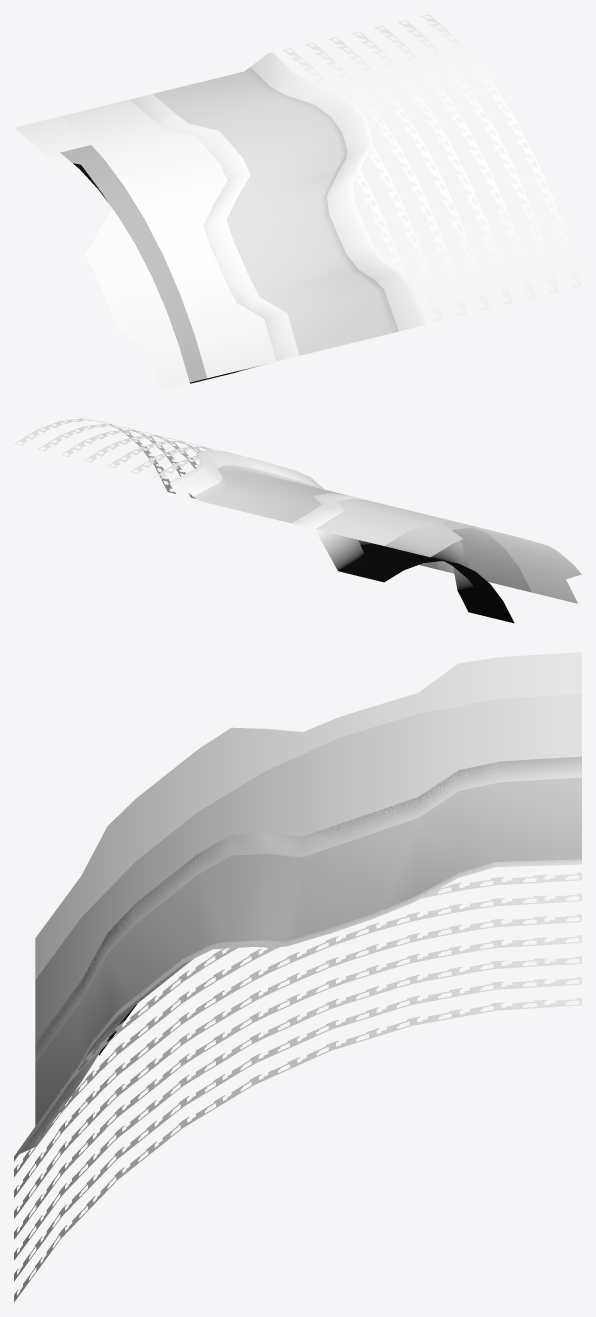
Rendered from grd_Iw_2.dae.
3 renders of one model, top to bottom at view 1: azimuth 30°, elevation 25°; view 2: azimuth 150°, elevation 25°; view 3: azimuth 270°, elevation 25°, orthographic. The views are drawn at different scales.
Visible parts, largest first — view 1: beach_0_0, wave_5_0, ocean_4_0, grass_3_0, beach_1_0, beach_cliff_2_0; view 2: beach_1_0, wave_5_0, ocean_4_0, beach_0_0, grass_3_0, beach_cliff_2_0; view 3: beach_0_0, ocean_4_0, wave_5_0, grass_3_0, beach_1_0, beach_cliff_2_0.
Boxes of the visible parts, <box> form: beach_0_0: <box>153,67,398,355</box>; wave_5_0: <box>14,100,219,389</box>; ocean_4_0: <box>60,99,298,378</box>; grass_3_0: <box>273,14,581,322</box>; beach_1_0: <box>61,94,299,383</box>; beach_cliff_2_0: <box>250,52,426,331</box>; beach_1_0: <box>292,493,514,623</box>; wave_5_0: <box>317,497,581,603</box>; ocean_4_0: <box>315,493,531,592</box>; beach_0_0: <box>193,465,439,569</box>; grass_3_0: <box>14,418,232,498</box>; beach_cliff_2_0: <box>170,450,324,496</box>; beach_0_0: <box>35,777,581,1125</box>; ocean_4_0: <box>35,694,581,1061</box>; wave_5_0: <box>35,652,581,979</box>; grass_3_0: <box>14,860,581,1302</box>; beach_1_0: <box>35,756,581,1062</box>; beach_cliff_2_0: <box>14,859,581,1161</box>.
Bounding box in the file's own units: 608 × 244 × 368.
Materials: 6 (1 with a texture image).
